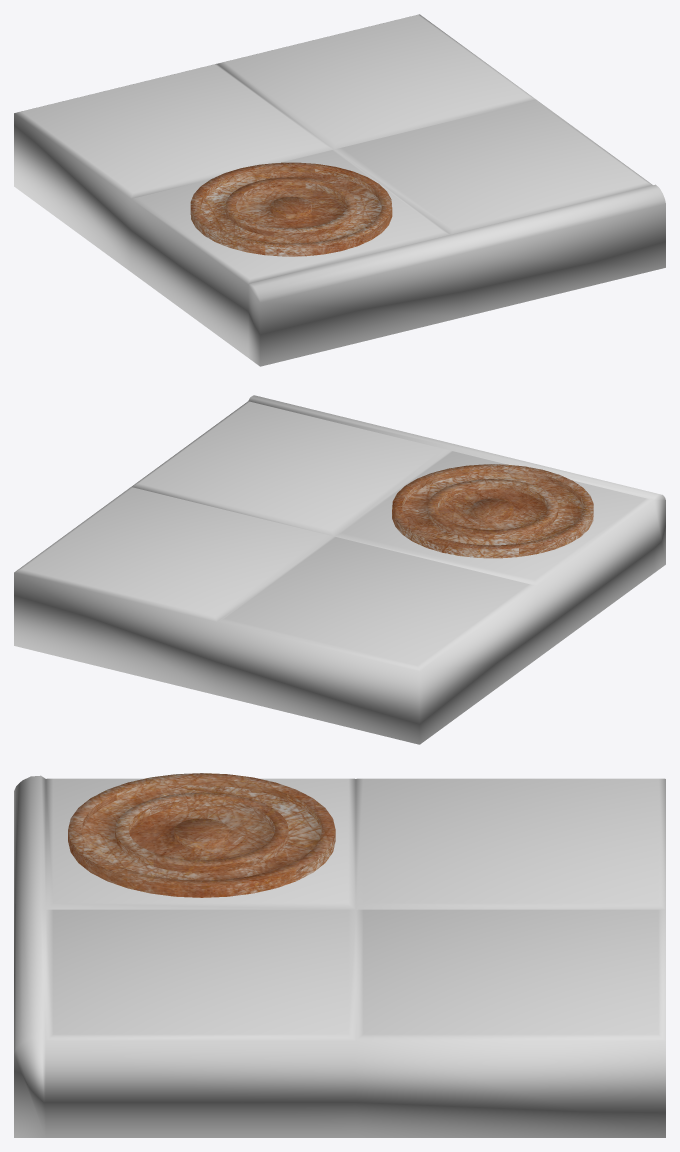
File: testeImportUnity2.fbx
The picture shows the model from 3 angles, top to bottom: view 1: azimuth 30°, elevation 25°; view 2: azimuth 150°, elevation 25°; view 3: azimuth 270°, elevation 25°; orthographic projection. The views are drawn at different scales.
Parts seen in each view (by area): view 1: Cube; view 2: Cube; view 3: Cube.
Part boxes in pixels (left/top/right/bottom): Cube: left=14, top=14, right=665, bottom=366; Cube: left=14, top=395, right=665, bottom=744; Cube: left=14, top=773, right=665, bottom=1137.
Bounding box in the file's own units: 200 × 39.98 × 210.
